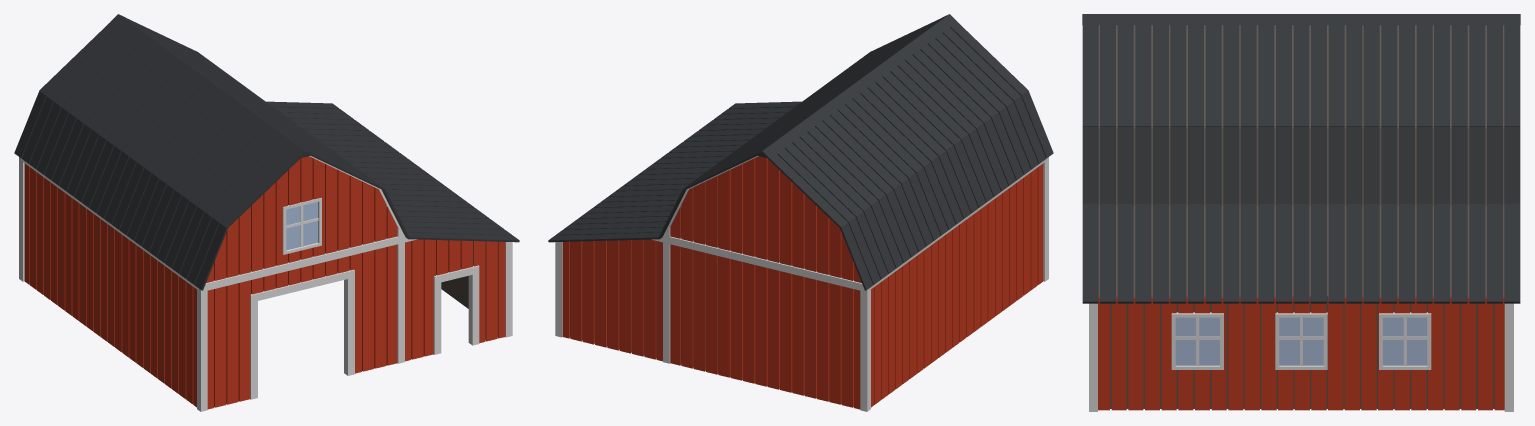
The model's file is Mesh_Buildings_Barn_01.FBX.
3 renders of one model, left to right at view 1: azimuth 30°, elevation 25°; view 2: azimuth 150°, elevation 25°; view 3: azimuth 270°, elevation 25°, orthographic. The views are drawn at different scales.
Parts seen in each view (by area): view 1: Mesh_Buildings_Barn_01; view 2: Mesh_Buildings_Barn_01; view 3: Mesh_Buildings_Barn_01.
Boxes of the visible parts, bbox=[...] form: Mesh_Buildings_Barn_01: bbox=[14, 14, 519, 411]; Mesh_Buildings_Barn_01: bbox=[548, 14, 1053, 411]; Mesh_Buildings_Barn_01: bbox=[1082, 14, 1520, 411].
Bounding box in the file's own units: 933 × 951 × 666.
